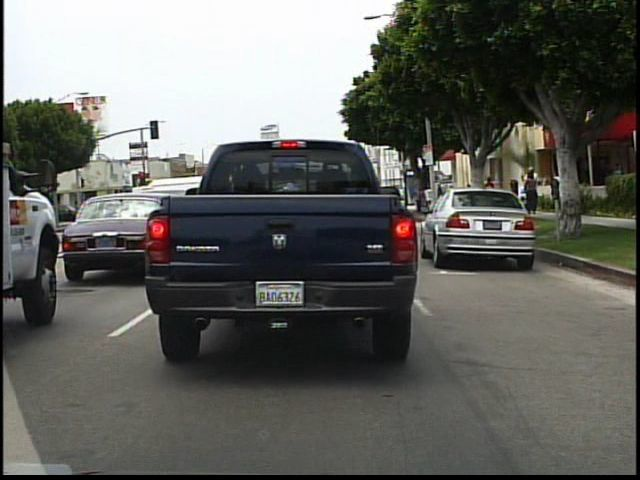person: (482, 174, 499, 212)
